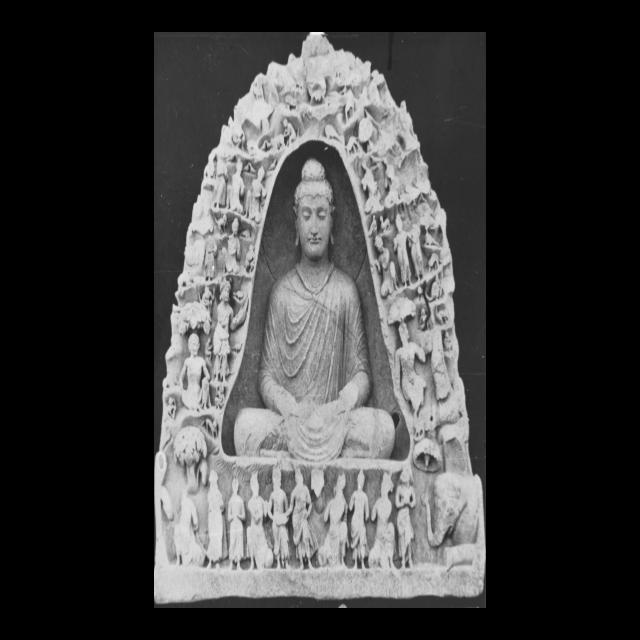buddha-sitting: (234, 158, 394, 462)
